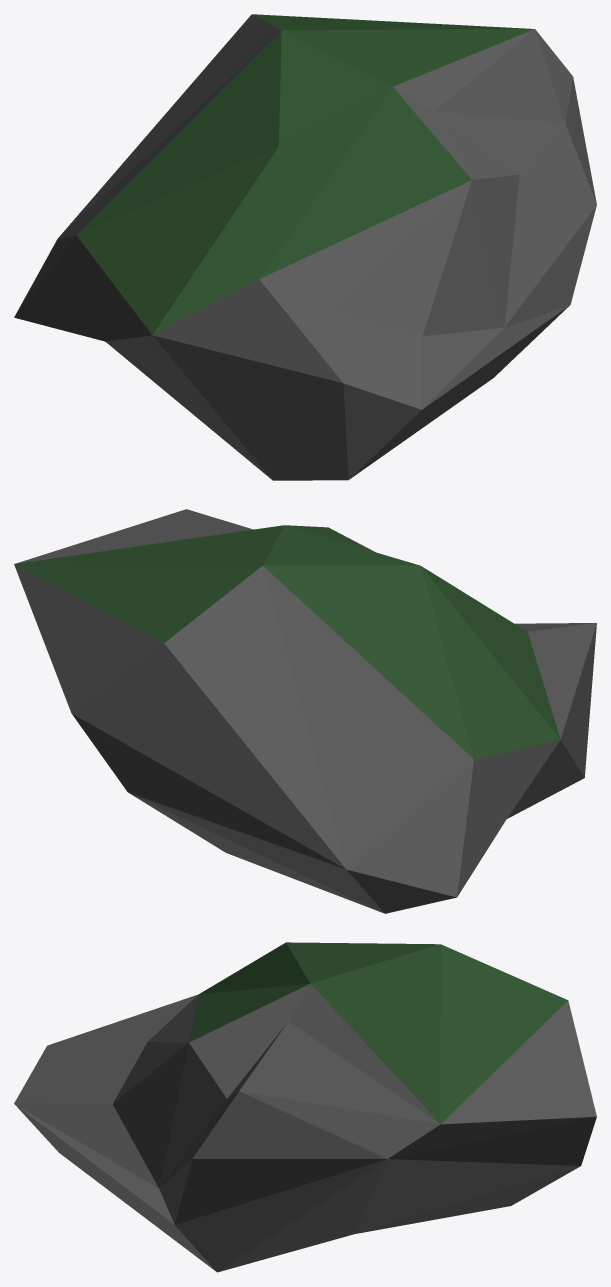
File: rock5.fbx
The picture shows the model from 3 angles, top to bottom: view 1: azimuth 30°, elevation 25°; view 2: azimuth 150°, elevation 25°; view 3: azimuth 270°, elevation 25°; orthographic projection. The views are drawn at different scales.
Parts seen in each view (by area): view 1: Rock5; view 2: Rock5; view 3: Rock5.
Boxes of the visible parts, x1,y1,x2,y2 form: Rock5: (14, 14, 596, 480); Rock5: (14, 509, 596, 913); Rock5: (14, 942, 596, 1272).
Size of the model in its own units: 205 by 115 by 213.
